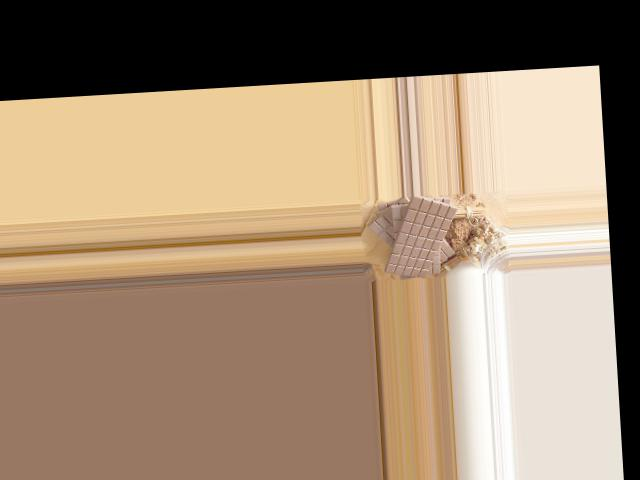chocolate: (379, 193, 465, 277)
